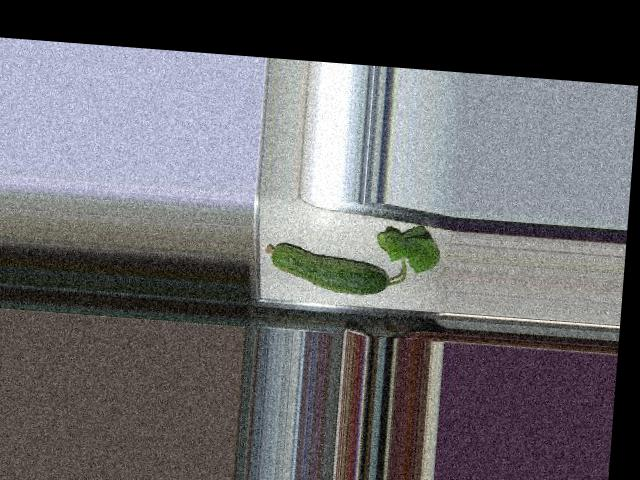cucumber: (262, 241, 392, 297)
